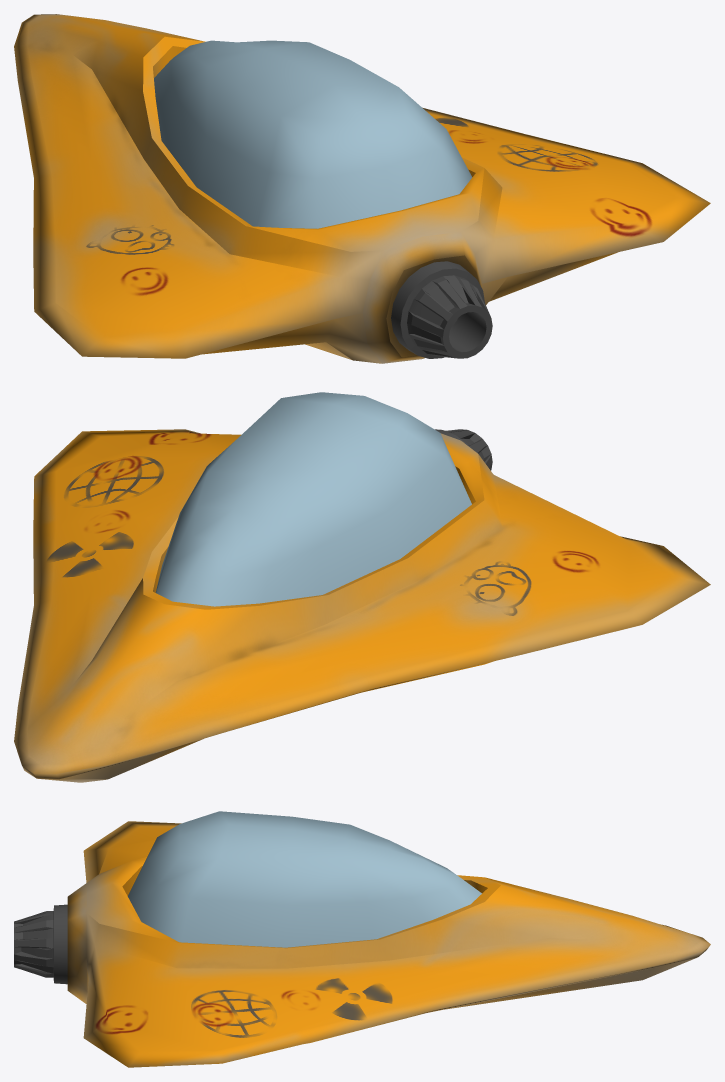
Rendered from ship2.obj.
3 views of the same model, one above another, from view 1: azimuth 30°, elevation 25°; view 2: azimuth 150°, elevation 25°; view 3: azimuth 270°, elevation 25° (orthographic). The views are drawn at different scales.
Parts seen in each view (by area): view 1: group1 pCube1 polySurface1, group1 pCylinder1 polySurface1; view 2: group1 pCube1 polySurface1, group1 pCylinder1 polySurface1; view 3: group1 pCube1 polySurface1, group1 pCylinder1 polySurface1.
Part boxes in pixels (left/top/right/bottom): group1 pCube1 polySurface1: left=14, top=14, right=710, bottom=363; group1 pCylinder1 polySurface1: left=391, top=261, right=492, bottom=358; group1 pCube1 polySurface1: left=14, top=392, right=710, bottom=782; group1 pCylinder1 polySurface1: left=435, top=429, right=492, bottom=470; group1 pCube1 polySurface1: left=67, top=811, right=710, bottom=1067; group1 pCylinder1 polySurface1: left=14, top=904, right=67, bottom=984.
Bounding box in the file's own units: 268 × 95.69 × 321.
Materials: 4 (1 with a texture image).
